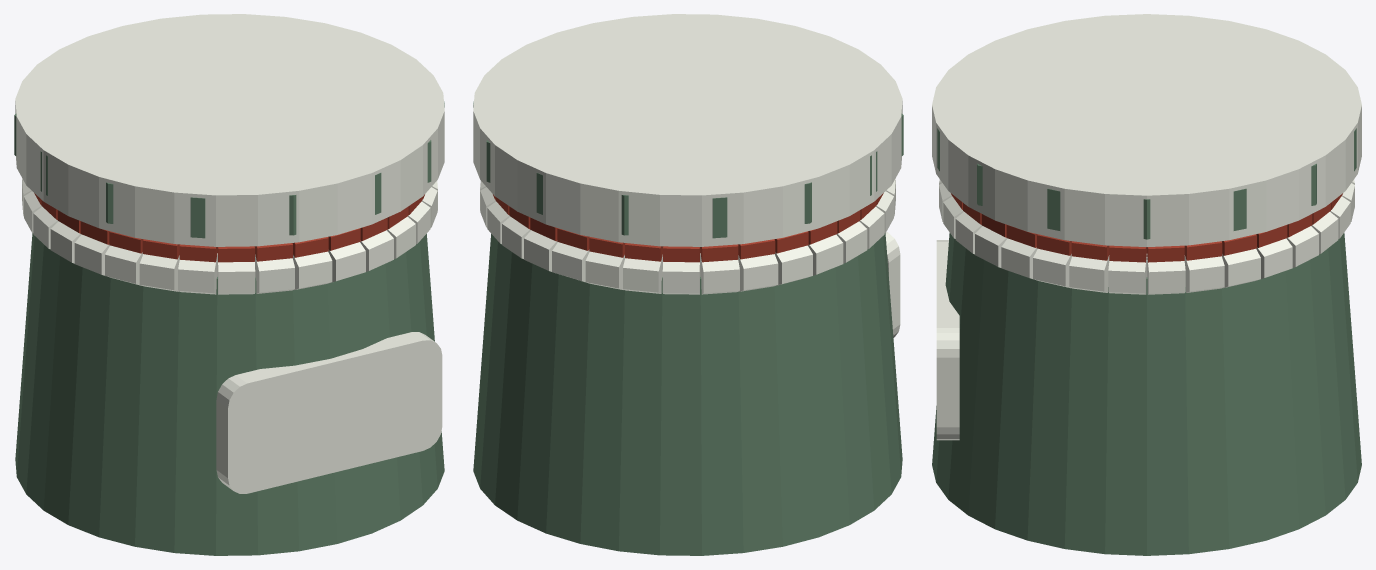
File: sealjar.glb
3 views of the same model, side by side, from view 1: azimuth 30°, elevation 25°; view 2: azimuth 150°, elevation 25°; view 3: azimuth 270°, elevation 25° (orthographic).
Parts seen in each view (by area): view 1: jar base, lid, label, shoulder11, shoulder9, shoulder12, shoulder10, shoulder8, shoulder13, shoulder7, shoulder14, shoulder6 (+10 smaller); view 2: jar base, lid, shoulder20, shoulder22, shoulder19, shoulder21, shoulder23, shoulder18, label, shoulder24, shoulder17, shoulder25 (+10 smaller); view 3: jar base, lid, label, shoulder1, shoulder30, shoulder0, shoulder31, shoulder2, shoulder29, shoulder3, shoulder28, shoulder4 (+11 smaller).
Boxes of the visible parts, x1,y1,x2,y2 form: jar base: (15, 233, 444, 555); lid: (15, 14, 444, 246); label: (216, 332, 442, 493); shoulder11: (178, 254, 217, 294); shoulder9: (255, 254, 294, 293); shoulder12: (139, 254, 179, 291); shoulder10: (217, 253, 255, 294); shoulder8: (292, 251, 332, 289); shoulder13: (105, 245, 143, 285); shoulder7: (328, 242, 365, 283); shoulder14: (74, 234, 109, 275); shoulder6: (360, 230, 393, 271); jar base: (473, 233, 902, 555); lid: (473, 14, 902, 246); shoulder20: (700, 254, 739, 294); shoulder22: (623, 254, 662, 293); shoulder19: (738, 254, 778, 291); shoulder21: (662, 253, 700, 294); shoulder23: (585, 251, 625, 289); shoulder18: (774, 245, 812, 285); label: (885, 232, 900, 337); shoulder24: (552, 242, 589, 283); shoulder17: (808, 234, 843, 275); shoulder25: (524, 230, 557, 271); jar base: (932, 233, 1361, 555); lid: (932, 14, 1361, 246); label: (936, 240, 959, 440); shoulder1: (1069, 255, 1109, 292); shoulder30: (1184, 255, 1224, 292); shoulder0: (1108, 254, 1146, 294); shoulder31: (1147, 254, 1185, 294); shoulder2: (1033, 248, 1071, 288); shoulder29: (1222, 248, 1260, 288); shoulder3: (1001, 238, 1037, 278); shoulder28: (1256, 238, 1292, 278); shoulder4: (975, 226, 1007, 267).
Bounding box in the file's own units: 1.06 × 0.98 × 1.06.
